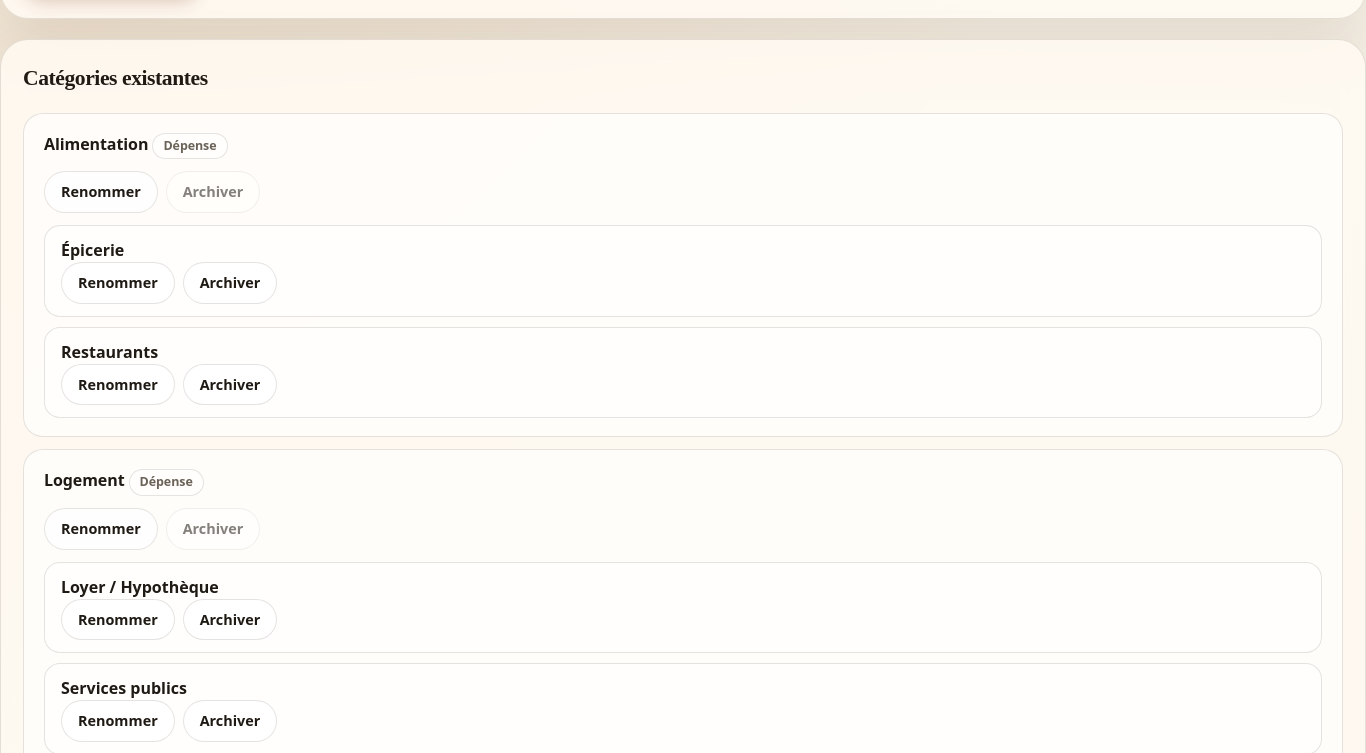
Test: FinanceCategoriesPage › renames a category
(page scrolled)
Check: the heading "Alimentation Dépense" is shown, box x1=44 y1=133 x2=228 y2=159
Click the button with aria-label "Renommer Restaurants" at [118, 384], box x1=61 y1=364 x2=175 y2=405
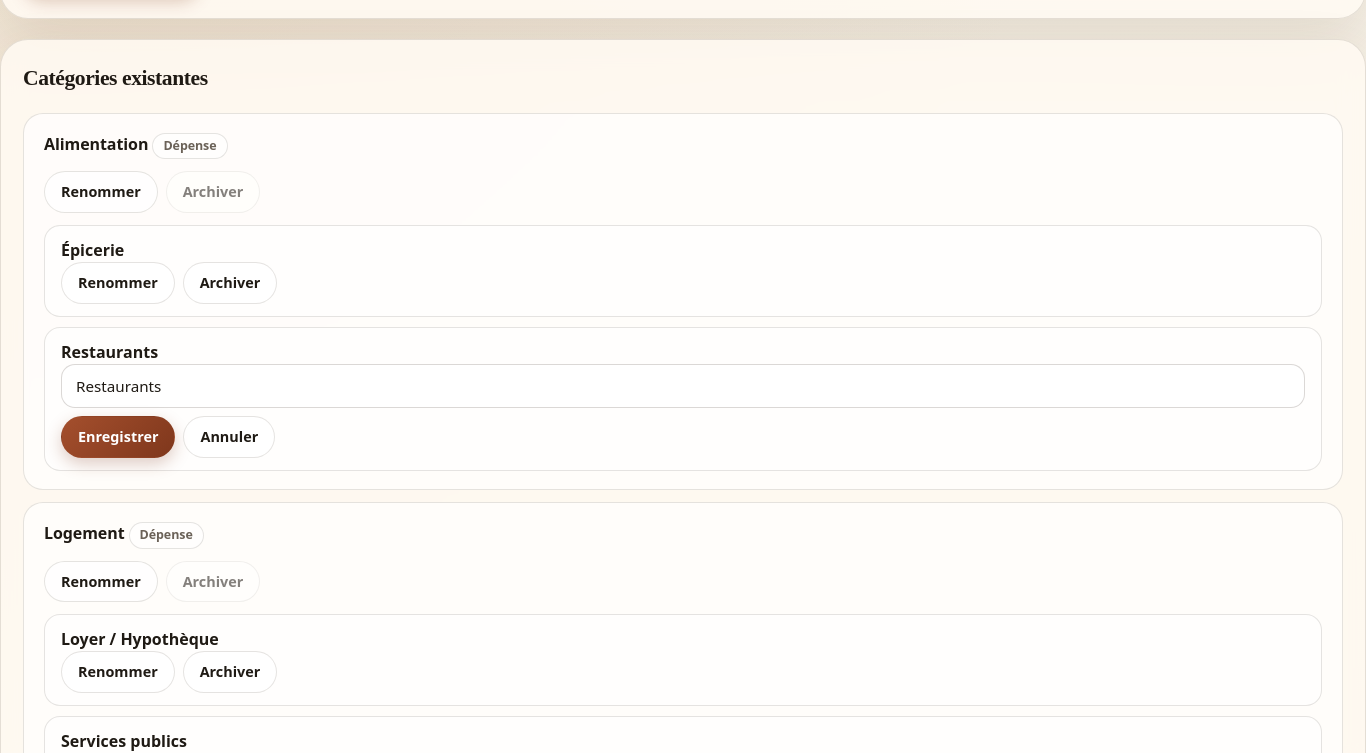
Replace the text in the field named "Nouveau nom de Restaurants" with "Brasseries" at [683, 386], box x1=61 y1=364 x2=1305 y2=408
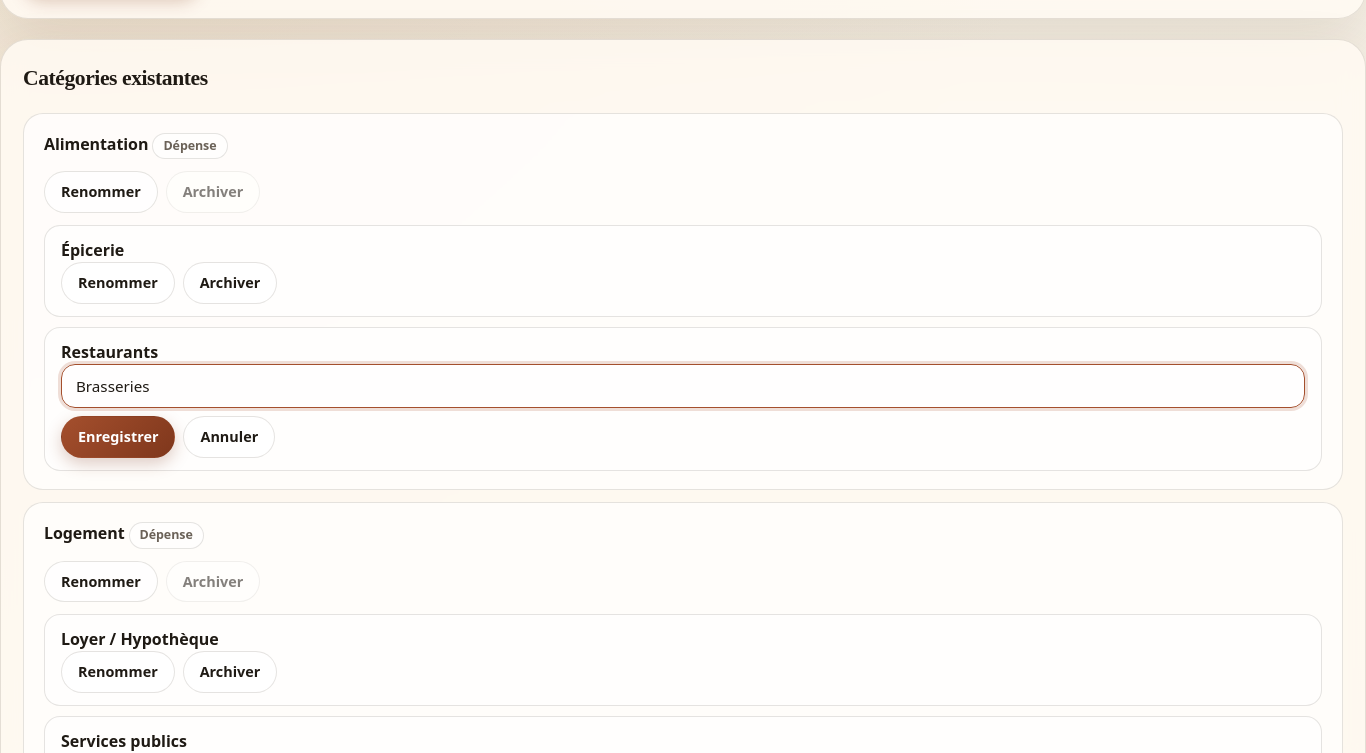
Click the button "Enregistrer" at [118, 437], box x1=61 y1=416 x2=176 y2=458
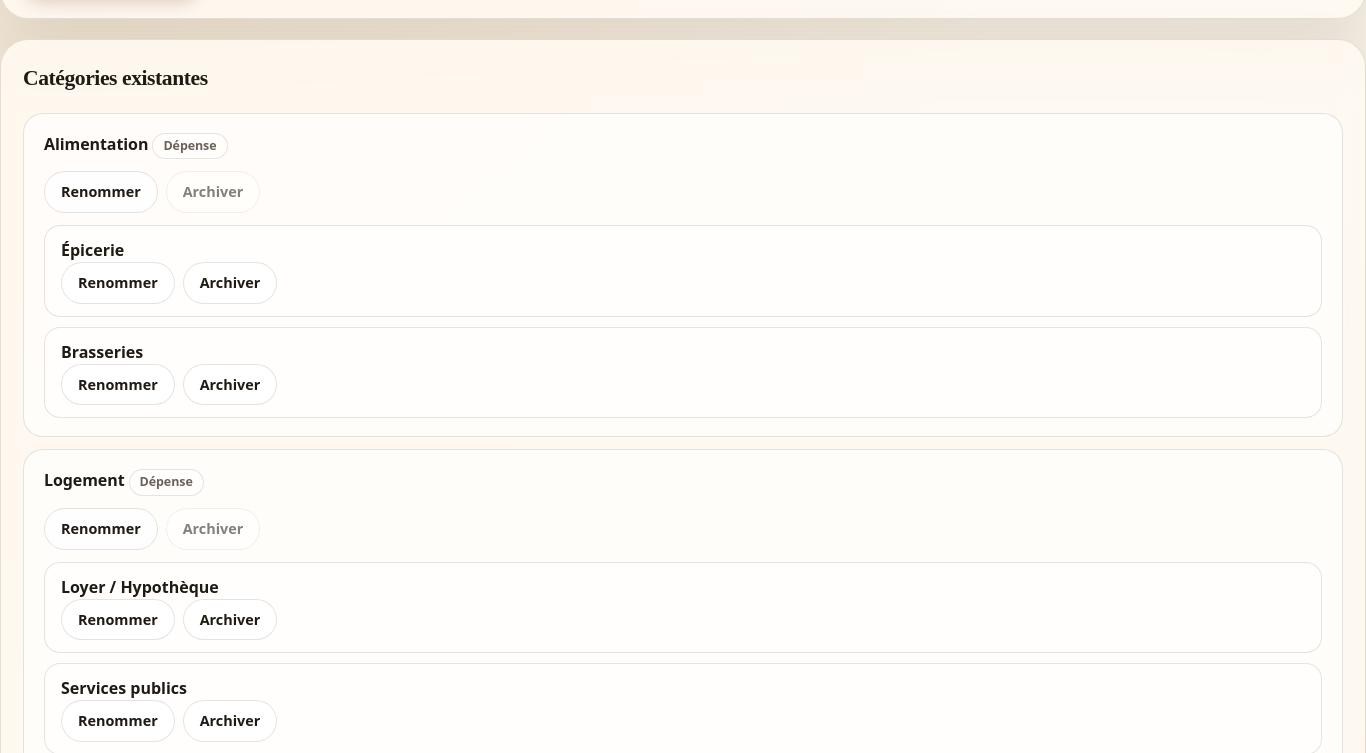
Check: the text "Brasseries" is shown, box x1=61 y1=341 x2=143 y2=363
